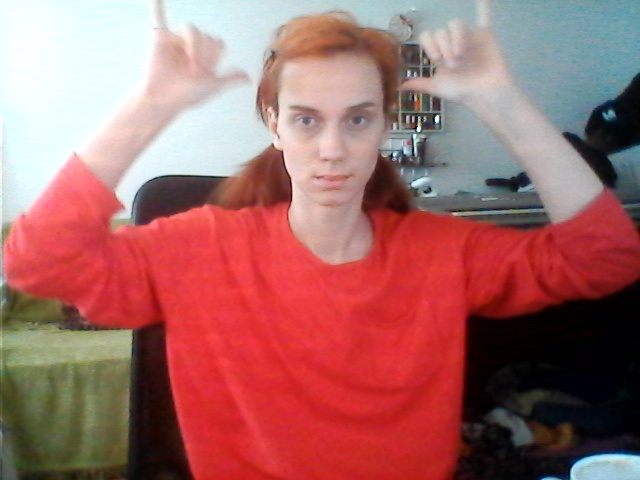krava: (107, 1, 522, 113)
